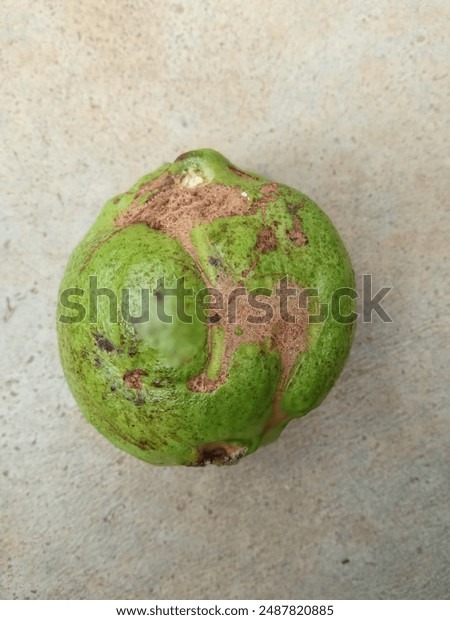guava: (85, 76, 429, 556)
